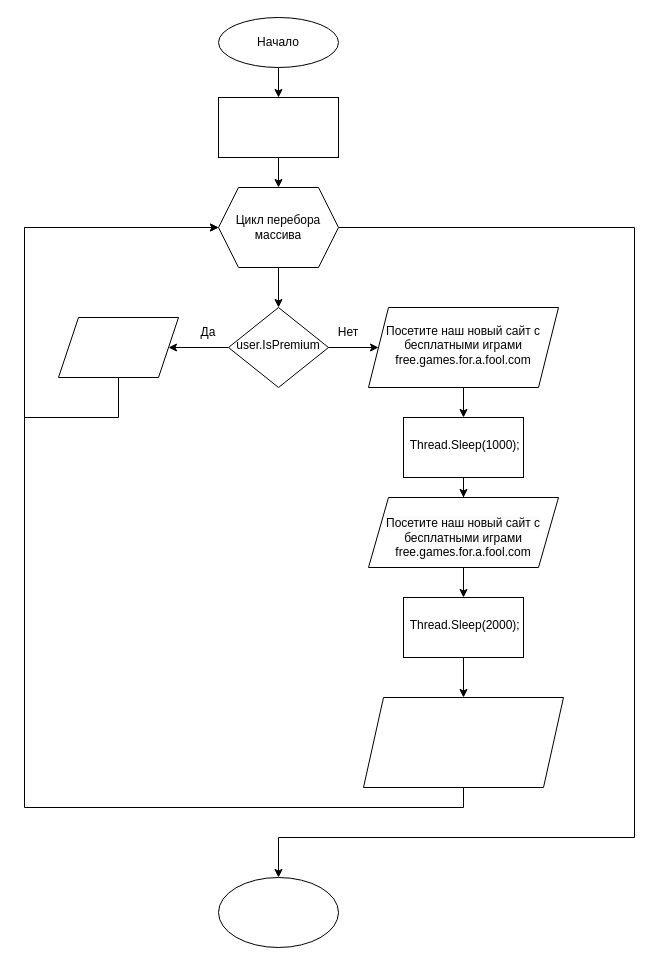
This 660x965 diagram has some shape labels left out. Here are the shapes that lost their labels. From the top down, the centre of each, then its label:
At (278,127): "Инициализация списка".
At (118,347): "У Вас премиум подписка".
At (463,742): "Оформите премиум-подписку на наш сервис, чтобы не видеть рекламу".
At (278,912): "Конец".
